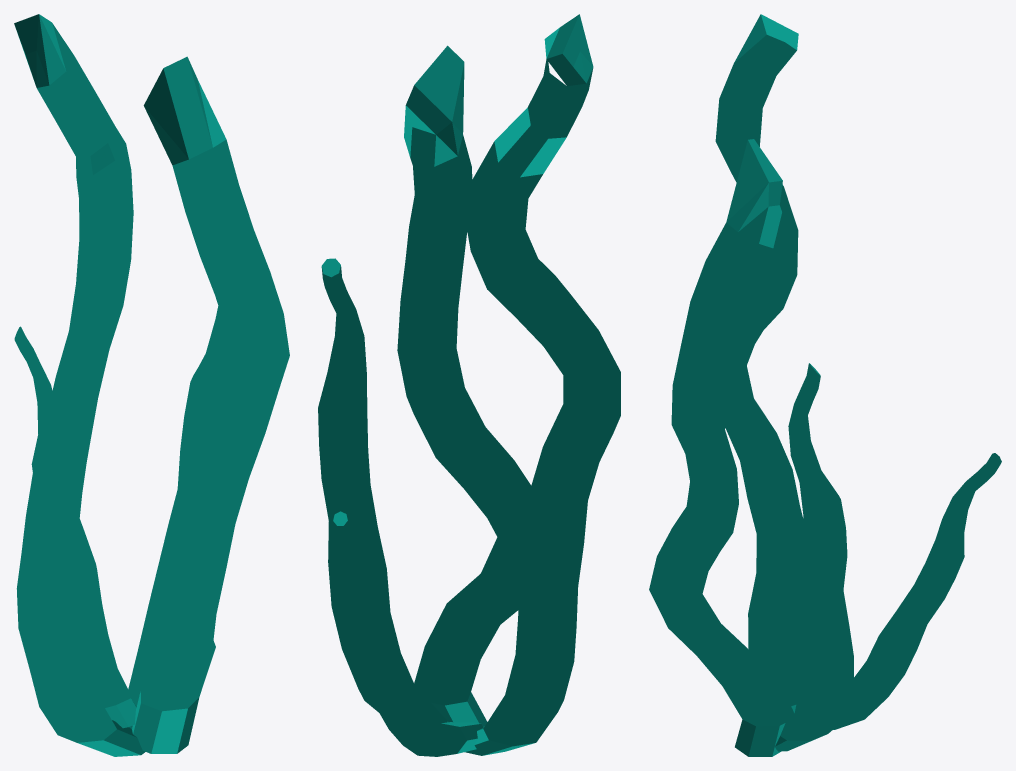
The model's file is seaweed.glb.
The picture shows the model from 3 angles, left to right: view 1: azimuth 30°, elevation 25°; view 2: azimuth 150°, elevation 25°; view 3: azimuth 270°, elevation 25°; orthographic projection. The views are drawn at different scales.
Visible parts, largest first — view 1: Node; view 2: Node; view 3: Node.
Boxes of the visible parts, x1,y1,x2,y2 form: Node: (14, 14, 289, 756); Node: (318, 14, 620, 756); Node: (649, 14, 1001, 756).
Size of the model in its own units: 0.2797 by 0.8166 by 0.3836.
